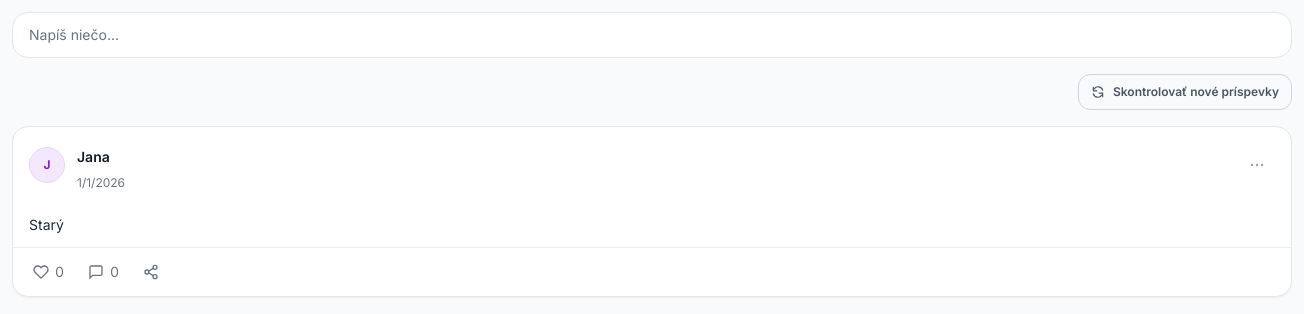
FeedList – vkladanie nových príspevkov na vrch › refreshes the data of posts that are already displayed
Expected: the element with test id "feed-list" is shown, x1=12 y1=126 x2=1292 y2=297
Expected: the button with test id "feed-like-button" reads "0", x1=25 y1=254 x2=72 y2=290
Click the button with test id "feed-check-new": coordinates (1185, 92) x1=1078 y1=74 x2=1292 y2=110
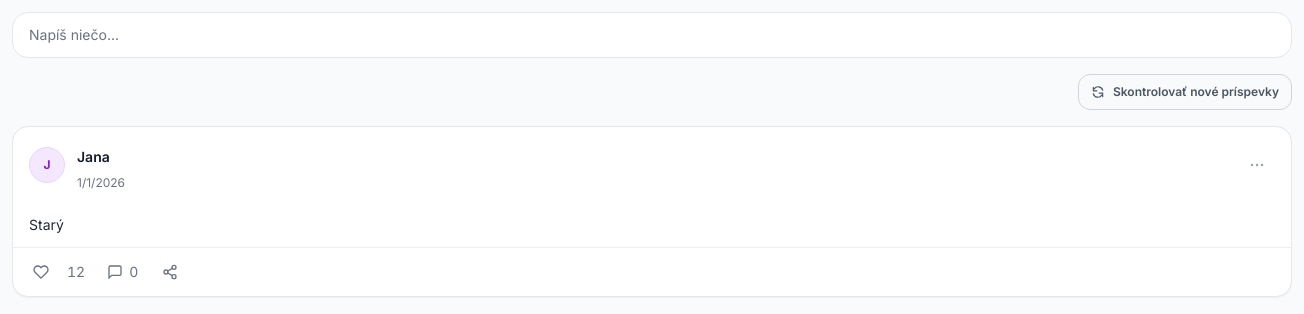
Expected: the button with test id "feed-like-count" reads "12", x1=61 y1=254 x2=91 y2=290
